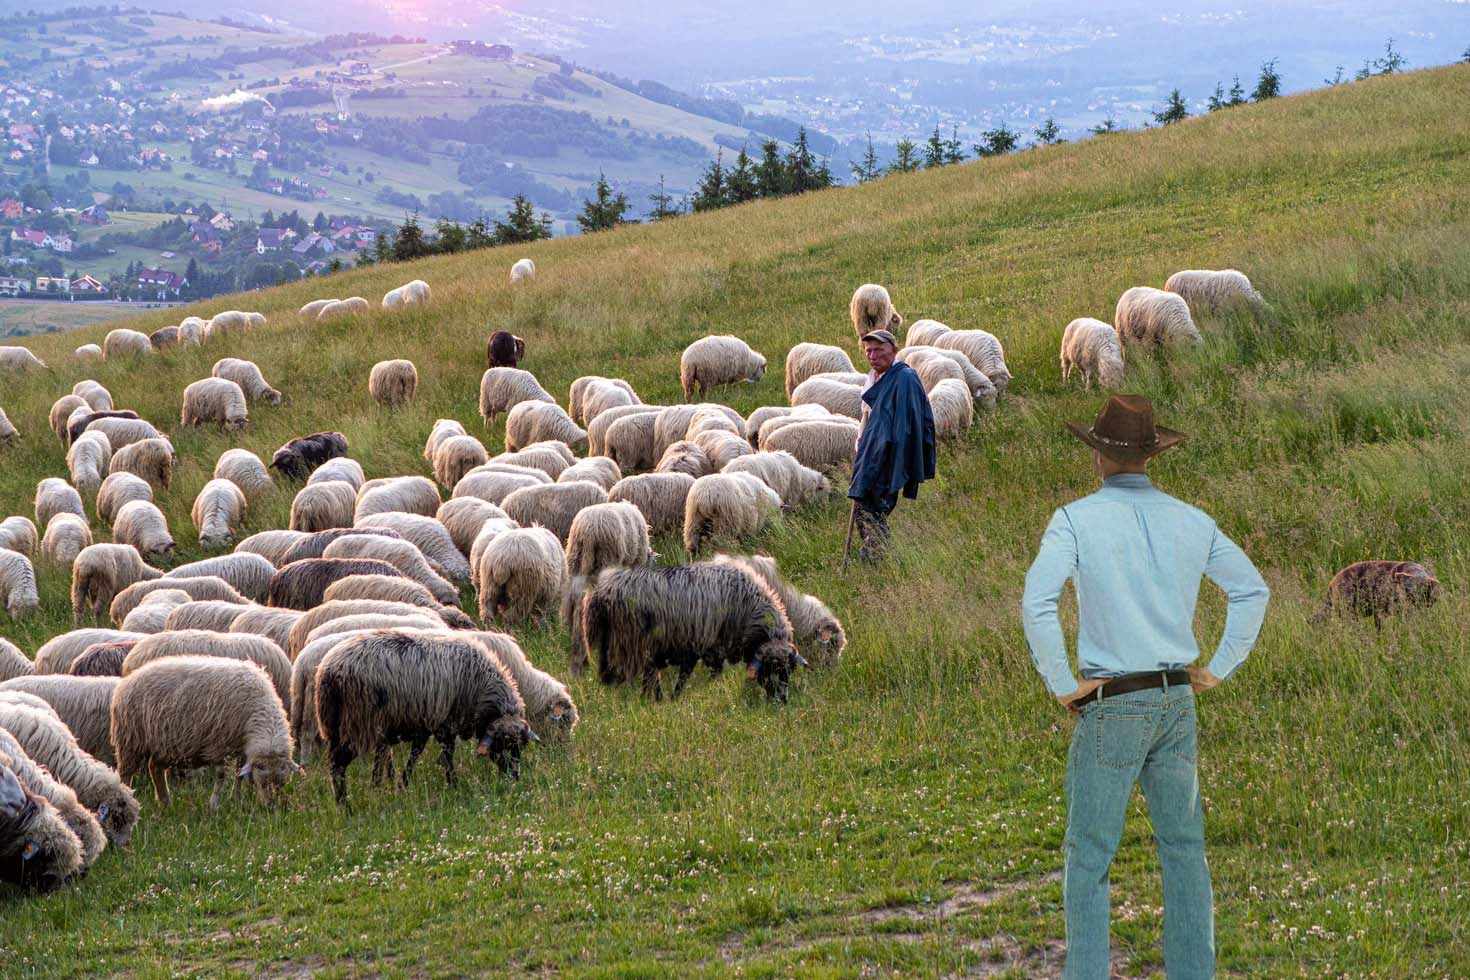copymove: (575, 537, 813, 701)
removal: (1299, 234, 1395, 310)
spliced: (1341, 562, 1427, 644)
